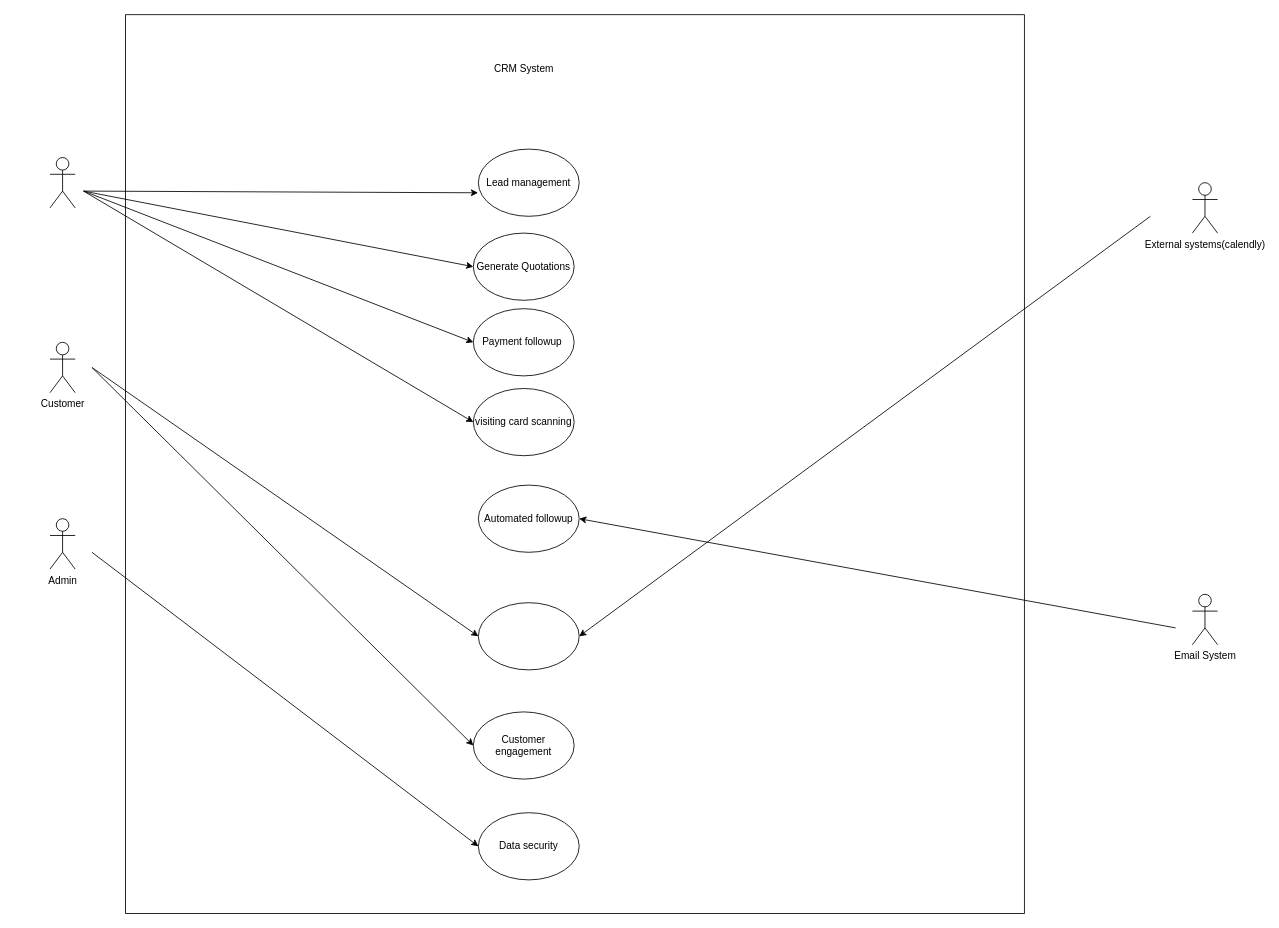
Image size: 1279x928. Some labels were removed from this diagram. Here are the shapes that lost their labels. From the top down, the centre of each, then its label:
the point at 62,182: Sales Representative
the point at 528,636: Schedule meetings
